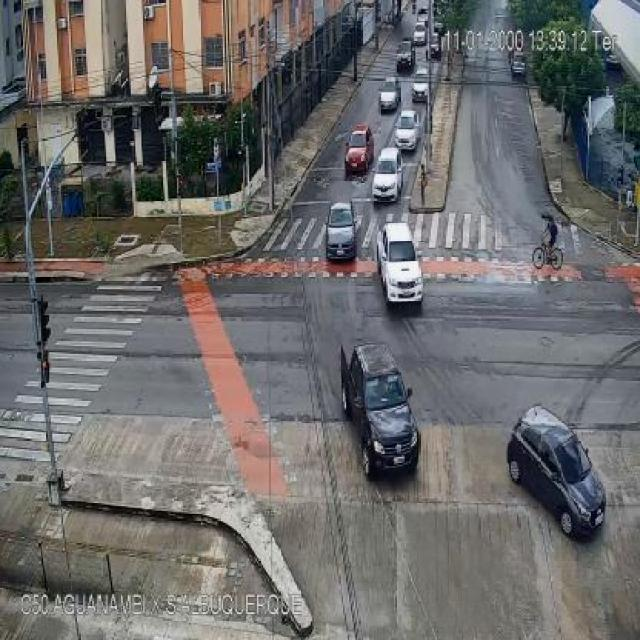Car: (508, 405, 606, 535), (375, 222, 424, 304), (325, 201, 360, 261), (371, 148, 404, 202), (344, 123, 374, 174), (393, 111, 420, 151), (378, 78, 401, 112), (395, 40, 414, 72), (412, 75, 429, 102), (509, 52, 527, 77), (412, 22, 427, 46), (428, 34, 442, 59), (434, 21, 444, 36)
Cycle: (532, 236, 566, 269)
Truck: (338, 337, 420, 476), (414, 0, 432, 22)
